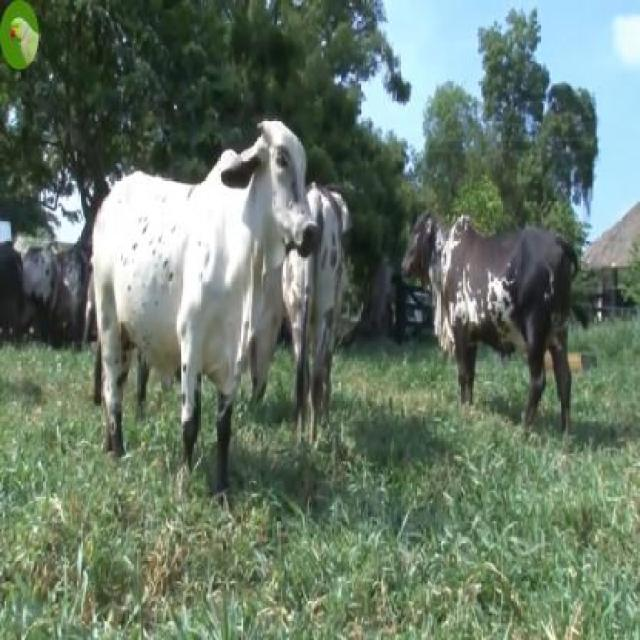Cow: (91, 117, 317, 480), (398, 211, 576, 431)
